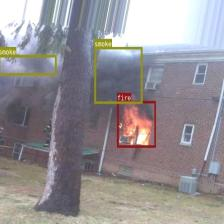fire: (116, 101, 155, 147)
smoke: (94, 47, 142, 103), (0, 54, 56, 75)
